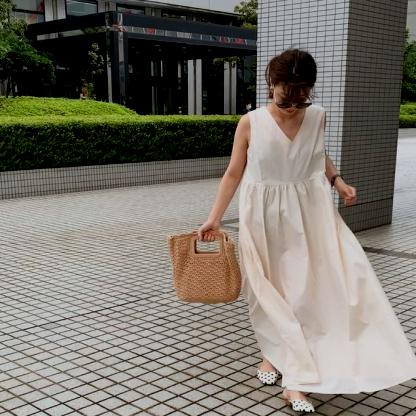jacket: (243, 104, 416, 398)
